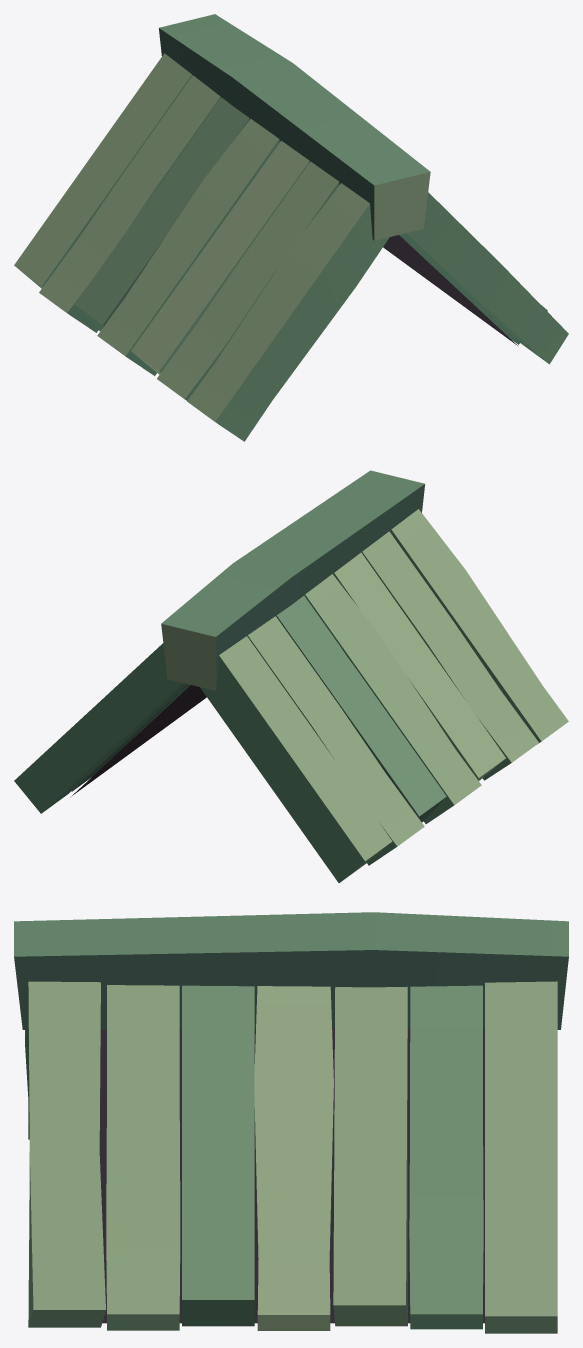
The model's file is Roof02_Green.glb.
The picture shows the model from 3 angles, top to bottom: view 1: azimuth 30°, elevation 25°; view 2: azimuth 150°, elevation 25°; view 3: azimuth 270°, elevation 25°; orthographic projection. The views are drawn at different scales.
Visible parts, largest first — view 1: Roof02_Green; view 2: Roof02_Green; view 3: Roof02_Green.
Boxes of the visible parts, x1,y1,x2,y2 form: Roof02_Green: [14, 14, 568, 441]; Roof02_Green: [14, 470, 568, 882]; Roof02_Green: [14, 912, 568, 1333].
Size of the model in its own units: 2.41 by 1.49 by 2.46.
1 material, 1 textured.
